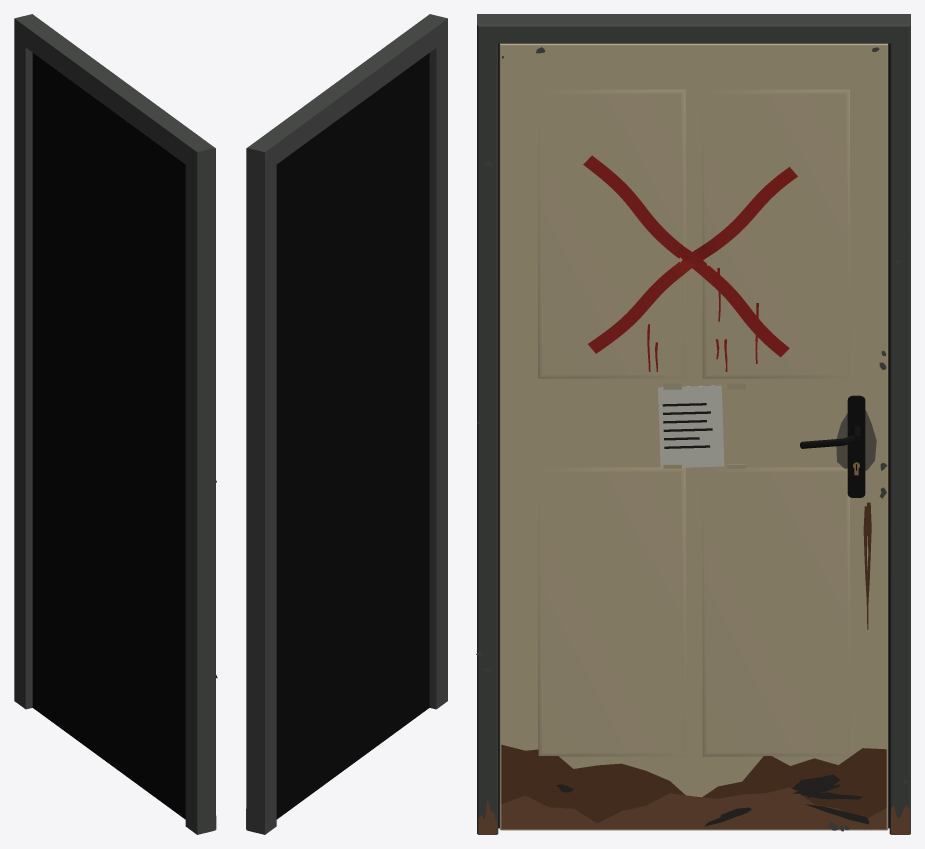
File: door_steel_cream.glb
3 views of the same model, side by side, from view 1: azimuth 30°, elevation 25°; view 2: azimuth 150°, elevation 25°; view 3: azimuth 270°, elevation 25° (orthographic). The views are drawn at different scales.
Visible parts, largest first — view 1: tuer_cream1, tuer_cream0; view 2: tuer_cream1, tuer_cream0; view 3: tuer_cream2, tuer_cream0, tuer_cream12, tuer_cream11, tuer_cream7, tuer_cream8, tuer_cream1, tuer_cream3, tuer_cream13, tuer_cream6, tuer_cream9.
Boxes of the visible parts, <box> form: tuer_cream1: <box>32,53,185,819</box>; tuer_cream0: <box>14,14,215,834</box>; tuer_cream1: <box>276,53,429,819</box>; tuer_cream0: <box>246,14,447,834</box>; tuer_cream2: <box>499,43,888,830</box>; tuer_cream0: <box>477,14,910,834</box>; tuer_cream12: <box>501,502,886,823</box>; tuer_cream11: <box>478,787,909,834</box>; tuer_cream7: <box>583,155,797,371</box>; tuer_cream8: <box>658,385,724,467</box>; tuer_cream1: <box>498,43,889,828</box>; tuer_cream3: <box>800,395,865,497</box>; tuer_cream13: <box>556,774,868,826</box>; tuer_cream6: <box>836,410,876,470</box>; tuer_cream9: <box>662,403,712,448</box>.
Bounding box in the file's own units: 0.1305 × 2.1 × 1.02.
